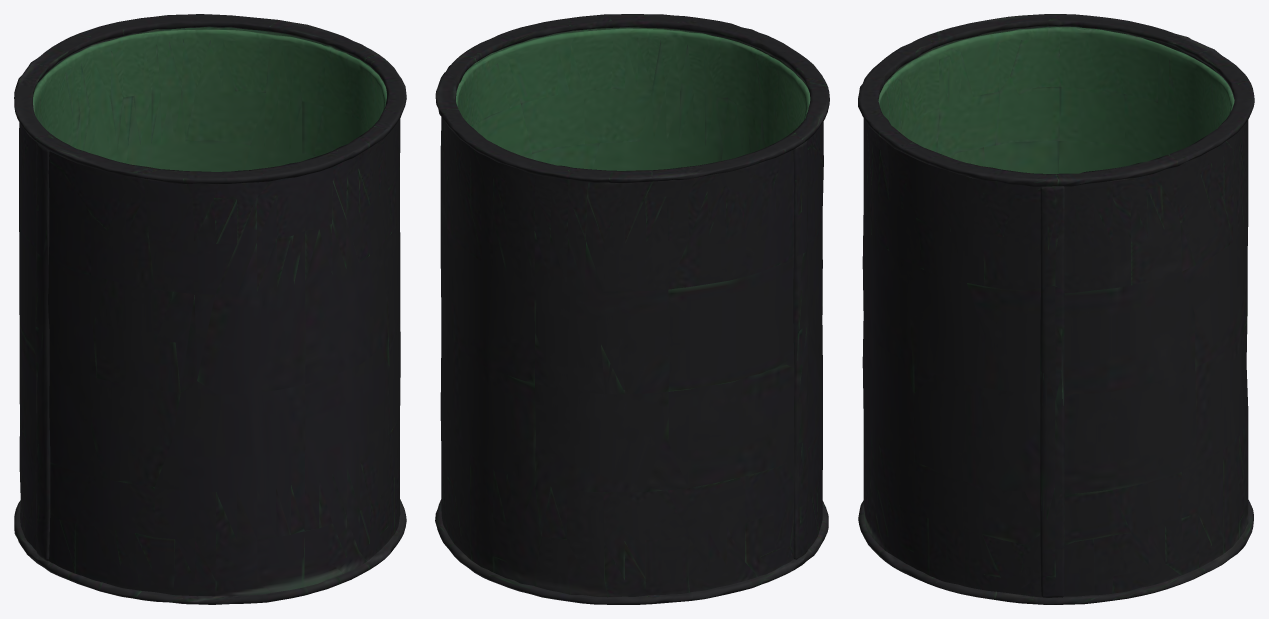
Rendered from dice_cup.glb.
The picture shows the model from 3 angles, left to right: view 1: azimuth 30°, elevation 25°; view 2: azimuth 150°, elevation 25°; view 3: azimuth 270°, elevation 25°; orthographic projection.
Parts seen in each view (by area): view 1: mesh_node; view 2: mesh_node; view 3: mesh_node.
Boxes of the visible parts, x1,y1,x2,y2 form: mesh_node: [14, 14, 406, 604]; mesh_node: [435, 14, 829, 604]; mesh_node: [858, 14, 1254, 604].
Size of the model in its own units: 0.8477 by 1 by 0.8477.
1 material, 1 textured.
